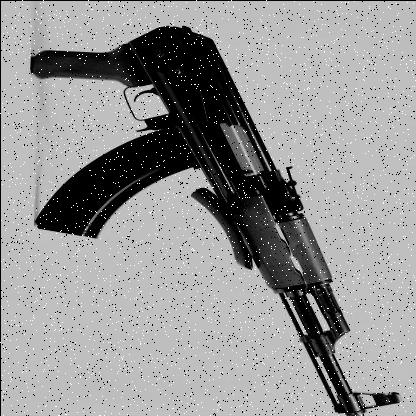rifle: (13, 15, 391, 395)
